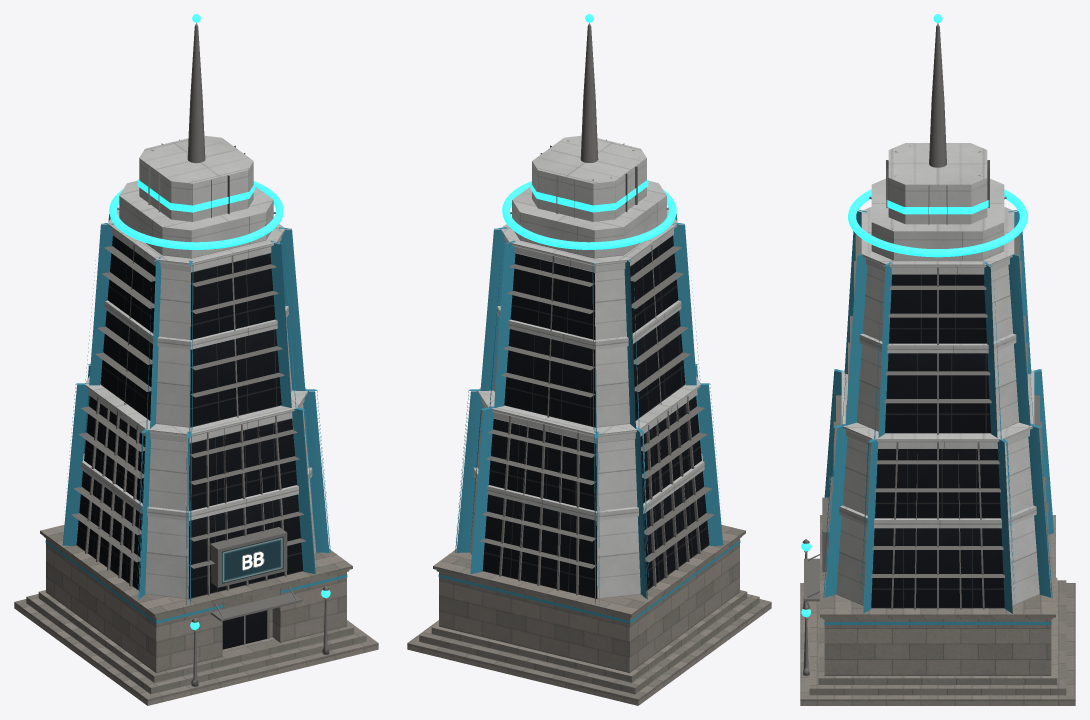
File: biota-blockchain.glb
The picture shows the model from 3 angles, left to right: view 1: azimuth 30°, elevation 25°; view 2: azimuth 150°, elevation 25°; view 3: azimuth 270°, elevation 25°; orthographic projection. The views are drawn at different scales.
Parts seen in each view (by area): view 1: Landmark · Biota.blockchain (BioDAO.X); view 2: Landmark · Biota.blockchain (BioDAO.X); view 3: Landmark · Biota.blockchain (BioDAO.X).
Part boxes in pixels (x1,y1,x2,y2): Landmark · Biota.blockchain (BioDAO.X): [14, 14, 378, 705]; Landmark · Biota.blockchain (BioDAO.X): [407, 14, 771, 705]; Landmark · Biota.blockchain (BioDAO.X): [800, 14, 1075, 705].
Bounding box in the file's own units: 12 × 30.5 × 12.
7 materials, 4 textured.
